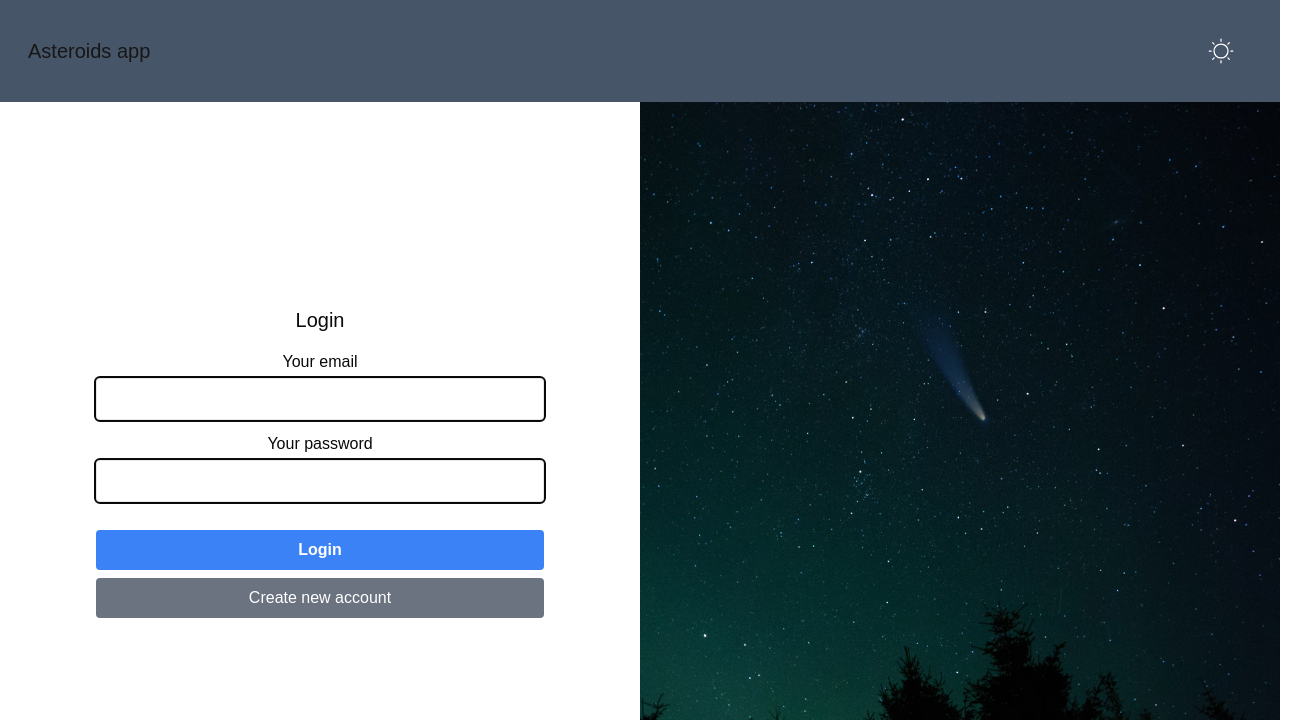
it: template spec › shows an error if the password is too short
Type "test@example.com" into the field with id "email-input" at (320, 399), box [96,378,544,420]
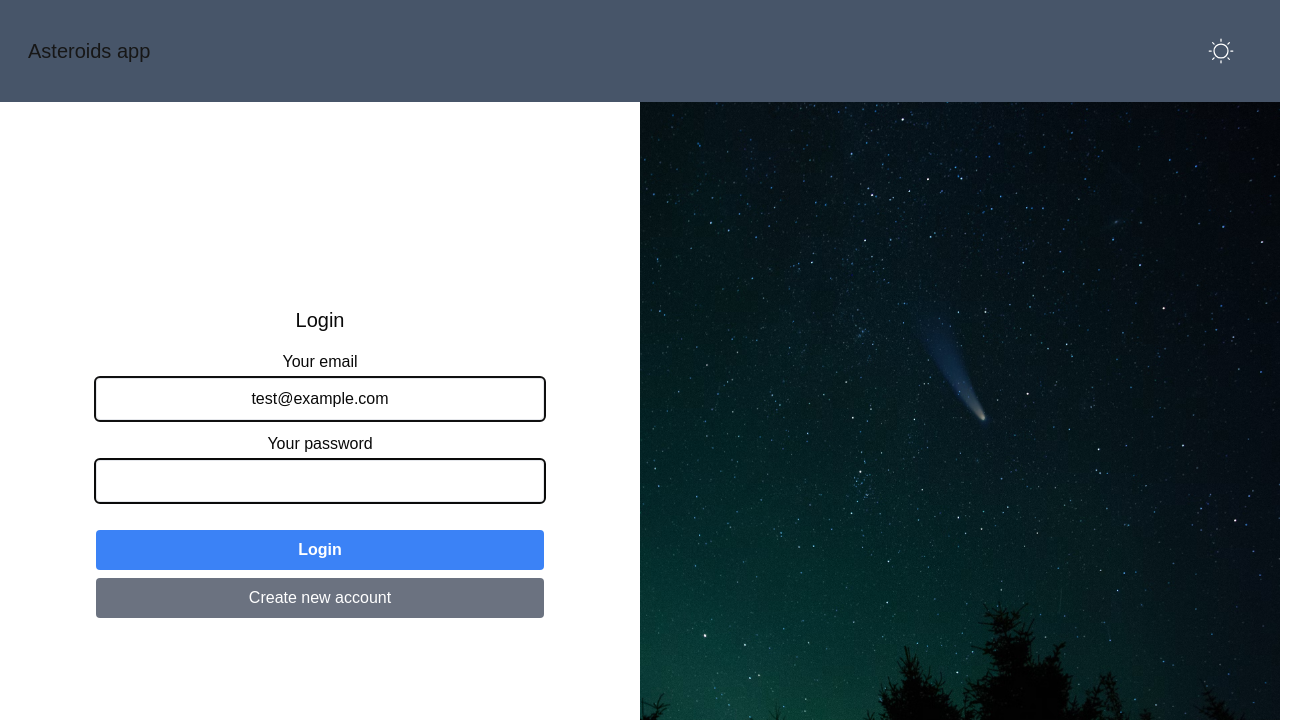
Type "123" into the password field labelled "Your password" at (320, 481), box [96,460,544,502]
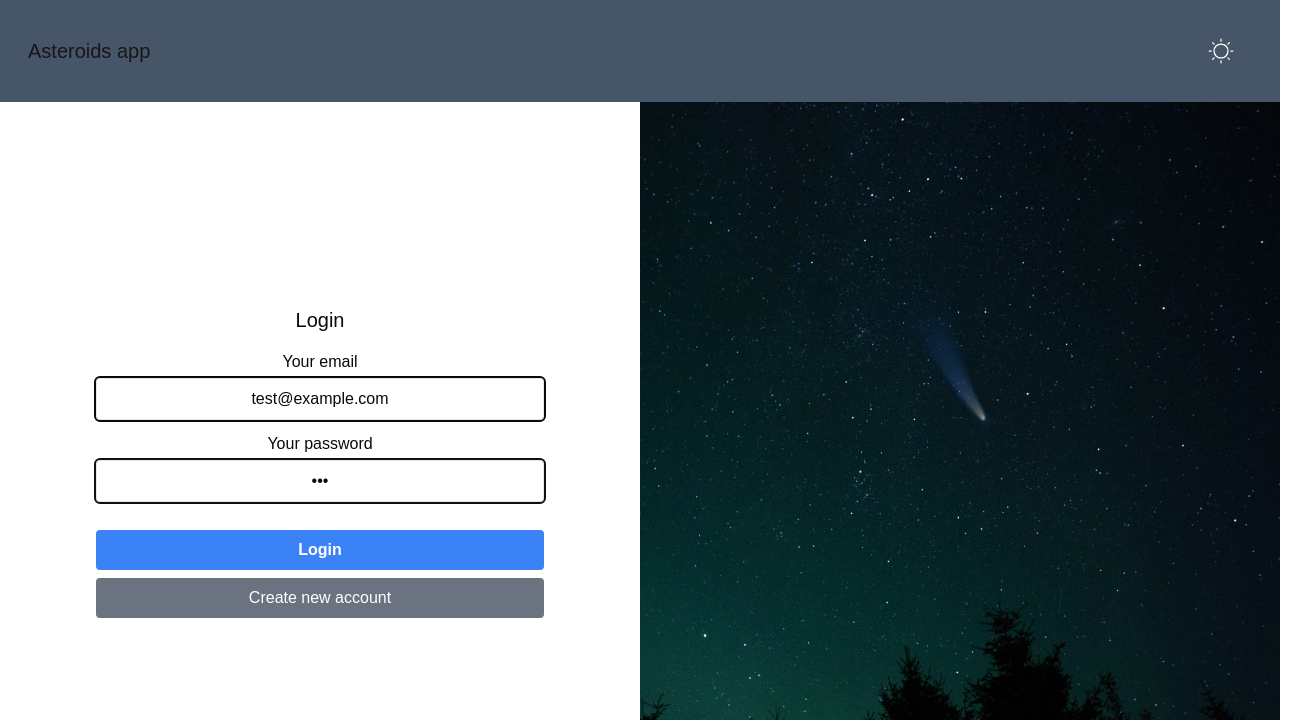
Click the button with test id "button-switch" at (320, 550), box [96,530,544,570]
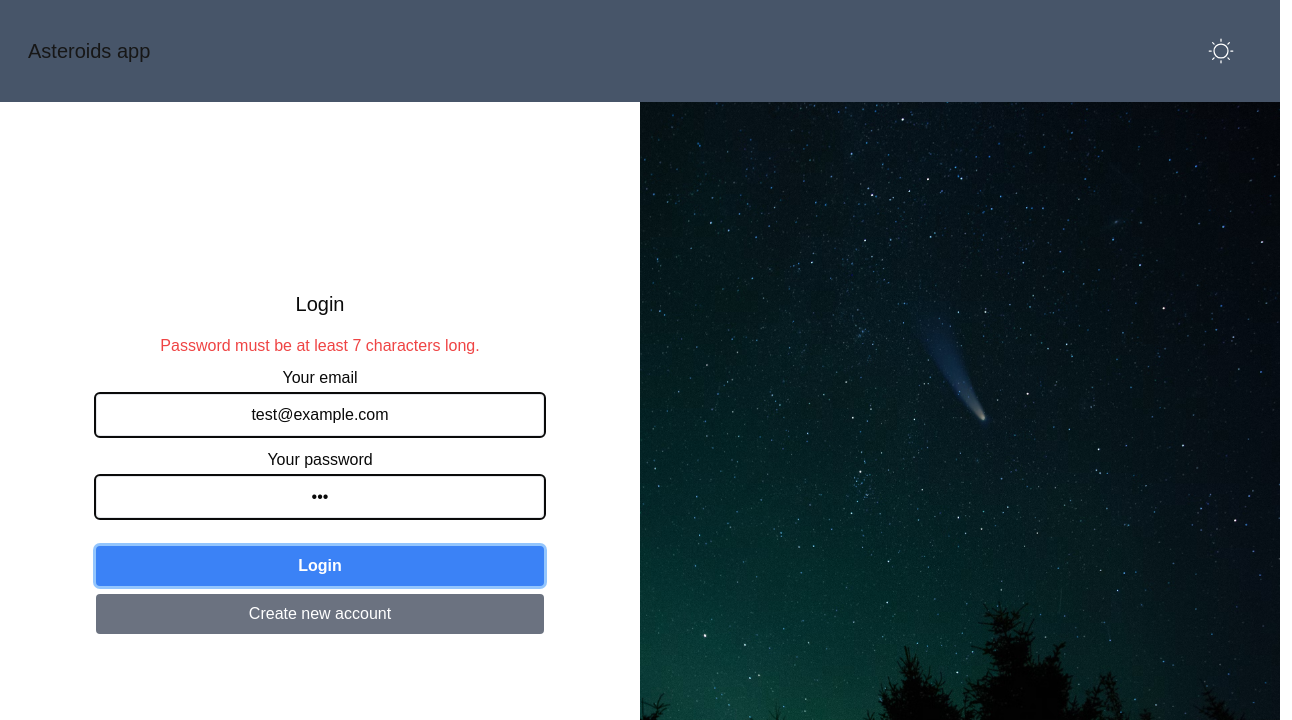
expect the text "Password must be at least 7 characters long." is shown: met, box [160,334,480,358]
